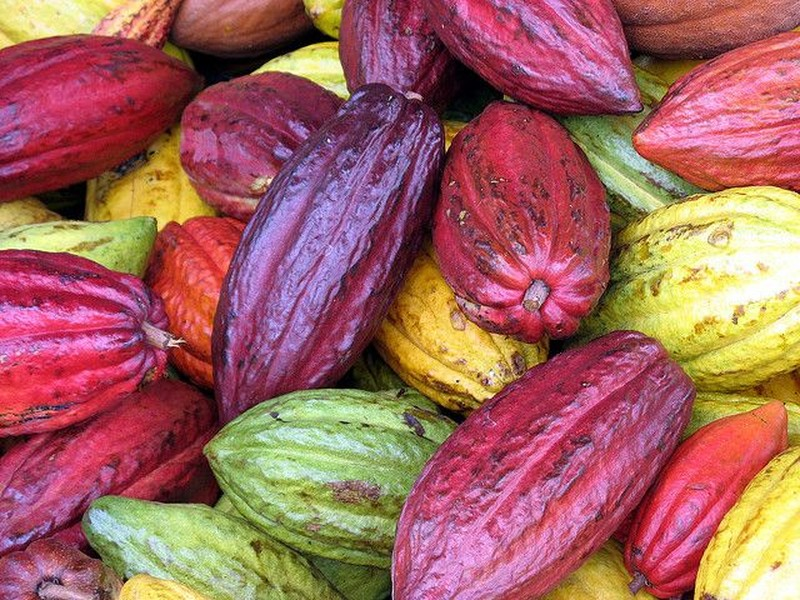Cacaopod: (425, 101, 612, 339)
